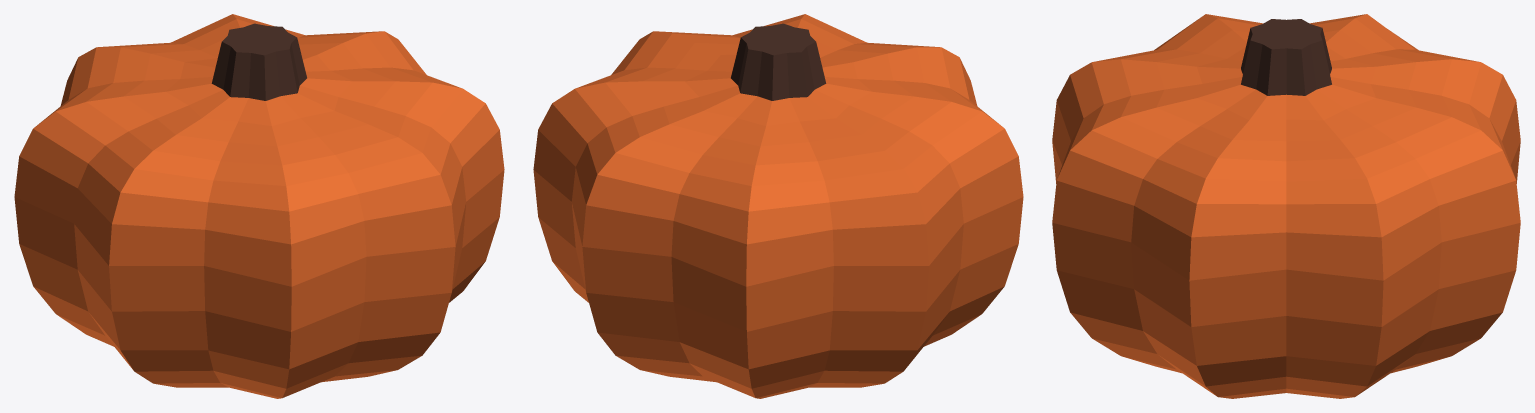
The model's file is PUMKIN.fbx.
3 views of the same model, side by side, from view 1: azimuth 30°, elevation 25°; view 2: azimuth 150°, elevation 25°; view 3: azimuth 270°, elevation 25° (orthographic). The views are drawn at different scales.
Parts seen in each view (by area): view 1: Sphere; view 2: Sphere; view 3: Sphere.
Part boxes in pixels (<box>): Sphere: <box>14,14,504,398</box>; Sphere: <box>533,14,1023,398</box>; Sphere: <box>1052,14,1520,398</box>.
Bounding box in the file's own units: 148 × 115 × 148.
